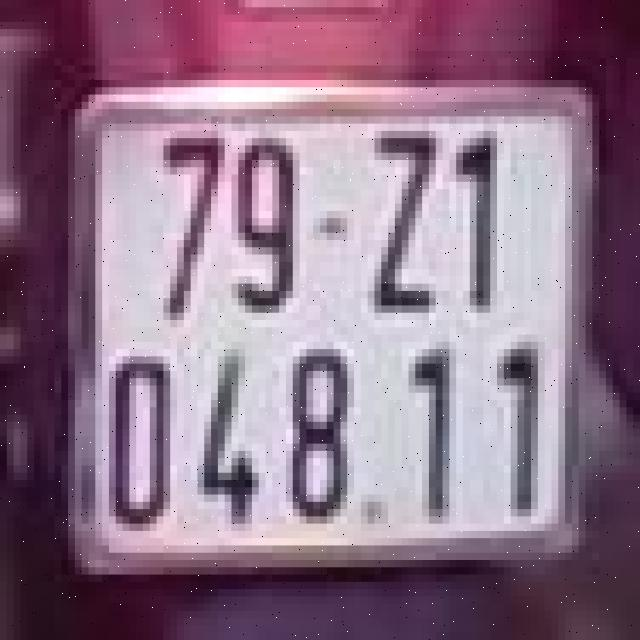0: (95, 346, 184, 534)
1: (490, 338, 552, 527), (456, 131, 511, 320), (405, 342, 460, 524)
4: (194, 346, 269, 528)
7: (153, 131, 228, 320)
8: (282, 342, 358, 524)
9: (232, 131, 306, 320)
Z: (368, 120, 442, 316)
